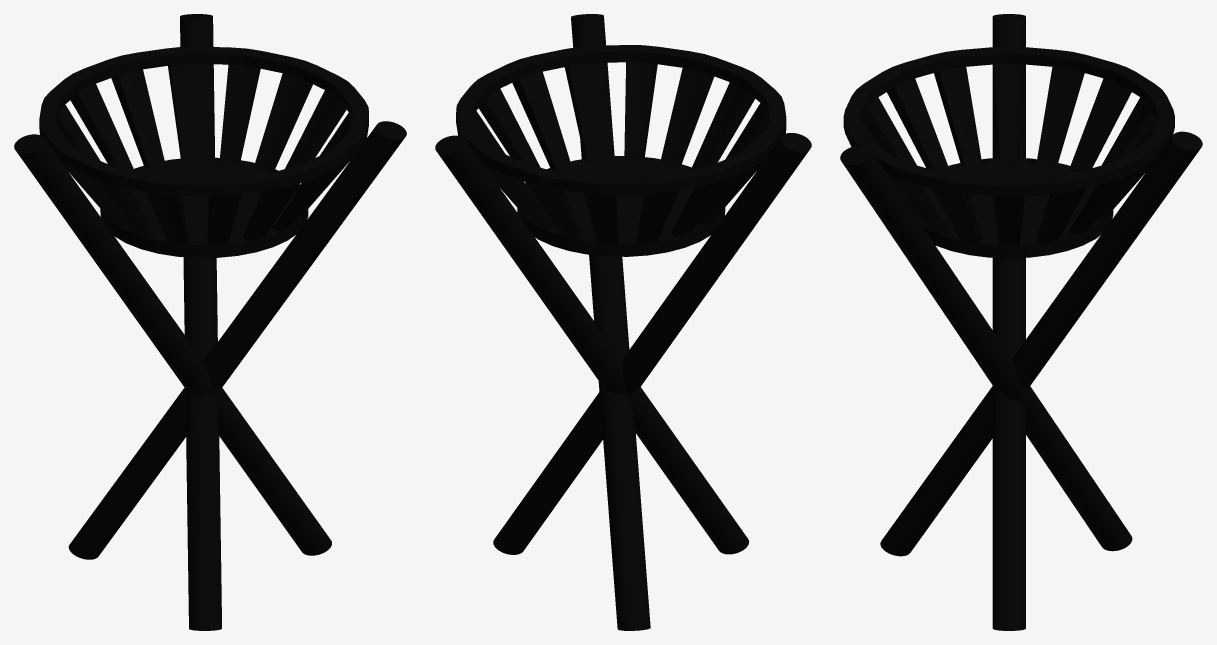
Rendered from Bonfire.obj.
3 views of the same model, side by side, from view 1: azimuth 30°, elevation 25°; view 2: azimuth 150°, elevation 25°; view 3: azimuth 270°, elevation 25° (orthographic).
Parts seen in each view (by area): view 1: bonfire; view 2: bonfire; view 3: bonfire.
Boxes of the visible parts, bbox=[...] form: bonfire: bbox=[14, 14, 406, 630]; bonfire: bbox=[435, 14, 811, 630]; bonfire: bbox=[840, 14, 1202, 630].
Size of the model in its own units: 0.5771 by 0.8 by 0.5469.
1 material, 1 textured.
